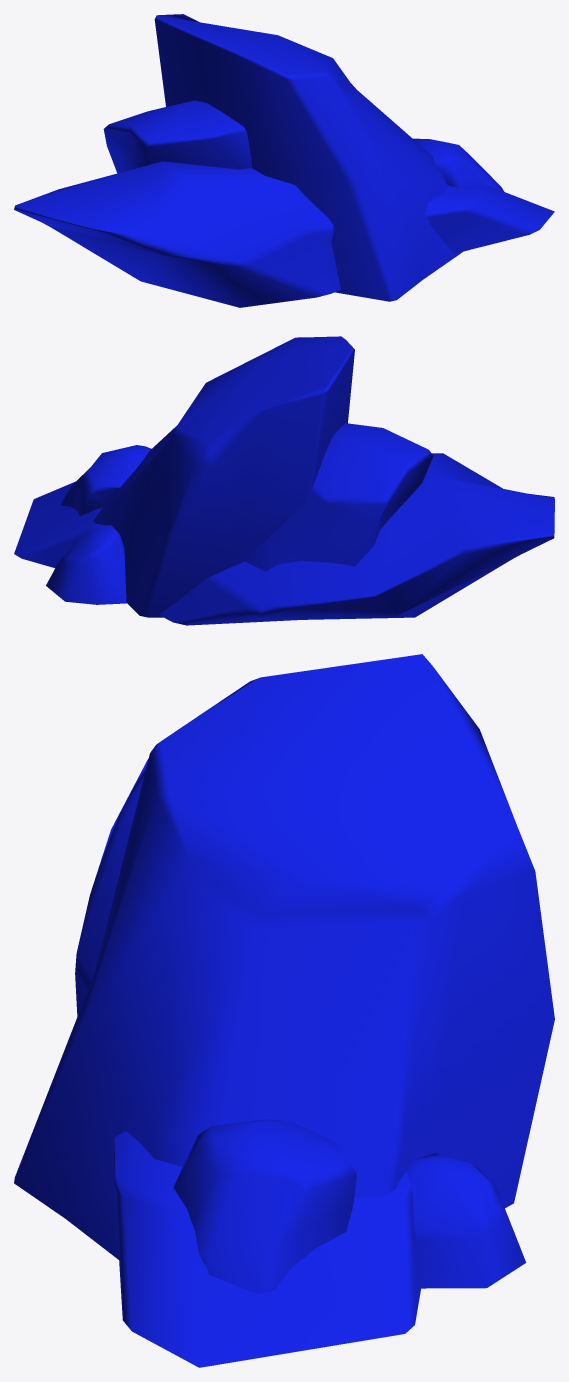
Rendered from grp_rocks_02.fbx.
The picture shows the model from 3 angles, top to bottom: view 1: azimuth 30°, elevation 25°; view 2: azimuth 150°, elevation 25°; view 3: azimuth 270°, elevation 25°; orthographic projection. The views are drawn at different scales.
Visible parts, largest first — view 1: grp_rocks_02; view 2: grp_rocks_02; view 3: grp_rocks_02.
Part boxes in pixels (x1,y1,x2,y2): grp_rocks_02: [14, 14, 554, 307]; grp_rocks_02: [14, 336, 554, 625]; grp_rocks_02: [14, 654, 554, 1367].
Size of the model in its own units: 1439 by 623 by 729.
